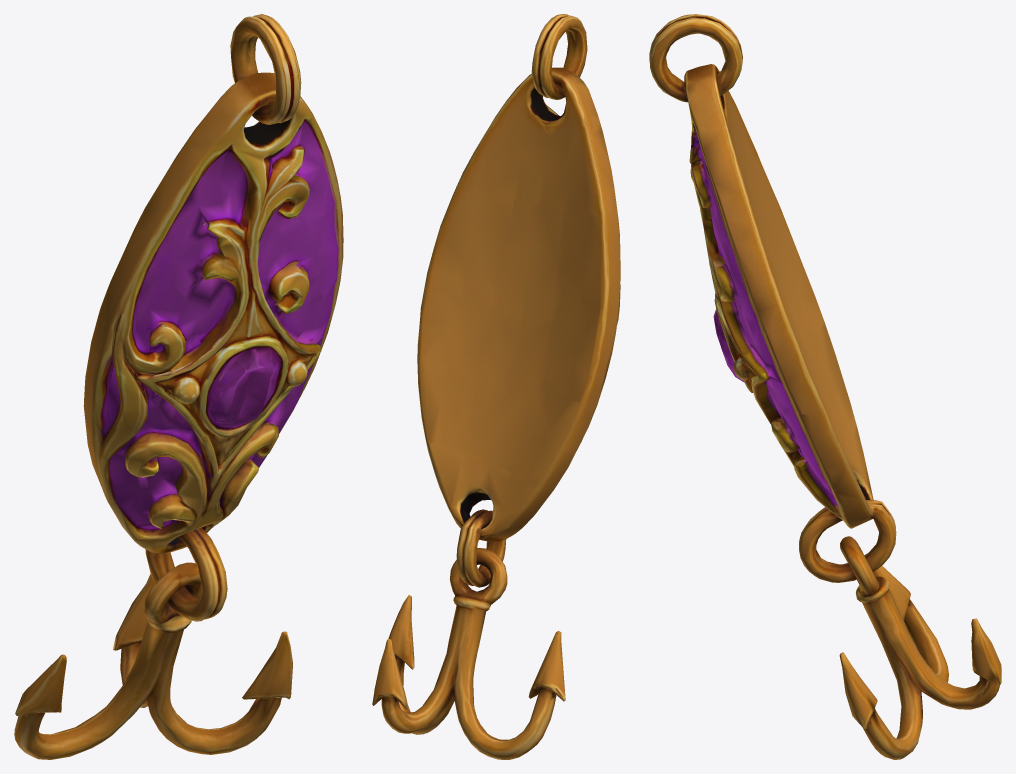
File: gear-legendlure.glb
The picture shows the model from 3 angles, left to right: view 1: azimuth 30°, elevation 25°; view 2: azimuth 150°, elevation 25°; view 3: azimuth 270°, elevation 25°; orthographic projection. The views are drawn at different scales.
Parts seen in each view (by area): view 1: tripo_node_17618666-43a4-4bbd-becd-b5dbf859f859; view 2: tripo_node_17618666-43a4-4bbd-becd-b5dbf859f859; view 3: tripo_node_17618666-43a4-4bbd-becd-b5dbf859f859.
Boxes of the visible parts, <box> form: tripo_node_17618666-43a4-4bbd-becd-b5dbf859f859: <box>14,14,343,759</box>; tripo_node_17618666-43a4-4bbd-becd-b5dbf859f859: <box>372,14,620,759</box>; tripo_node_17618666-43a4-4bbd-becd-b5dbf859f859: <box>649,14,1001,759</box>.
Bounding box in the file's own units: 0.3153 × 0.9999 × 0.4488.
Materials: 1 (1 with a texture image).
